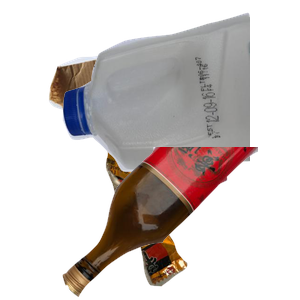cardboard: (46, 40, 226, 179)
glass: (60, 147, 300, 300)
plastic: (60, 10, 300, 175)
trash: (103, 147, 300, 300)
